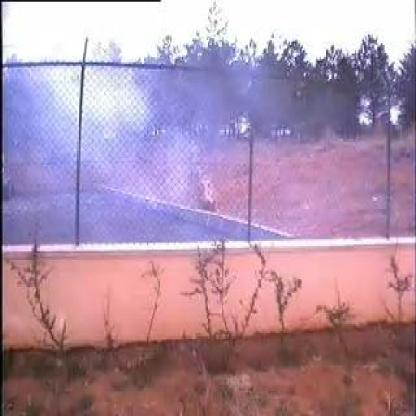-: (18, 66, 199, 230)
